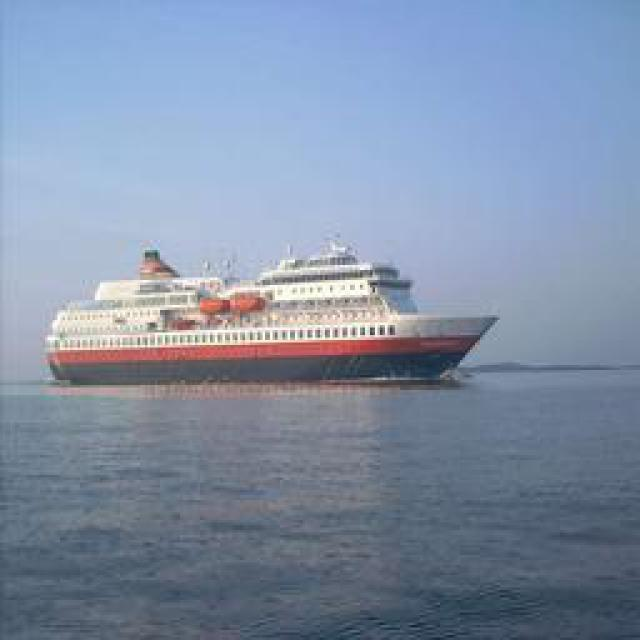Ship: (45, 230, 493, 388)
